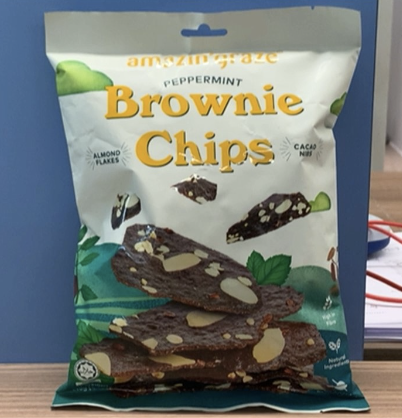crackers_150g: (74, 47, 334, 392)
